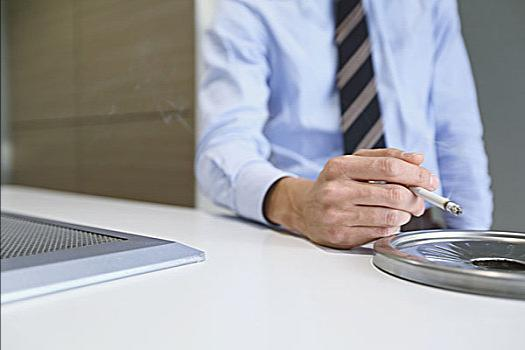Cigarette: (406, 180, 462, 215)
